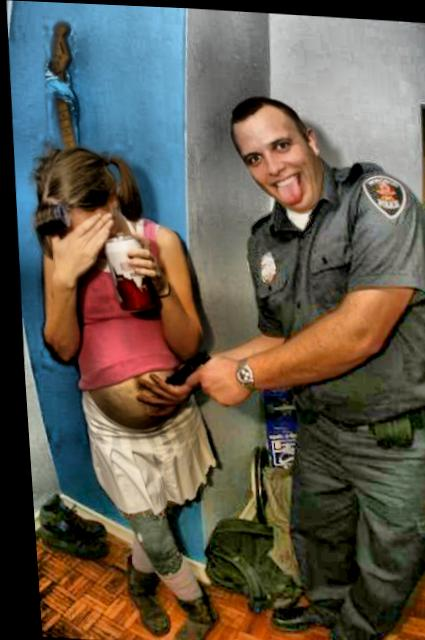pistol: (146, 347, 206, 389)
